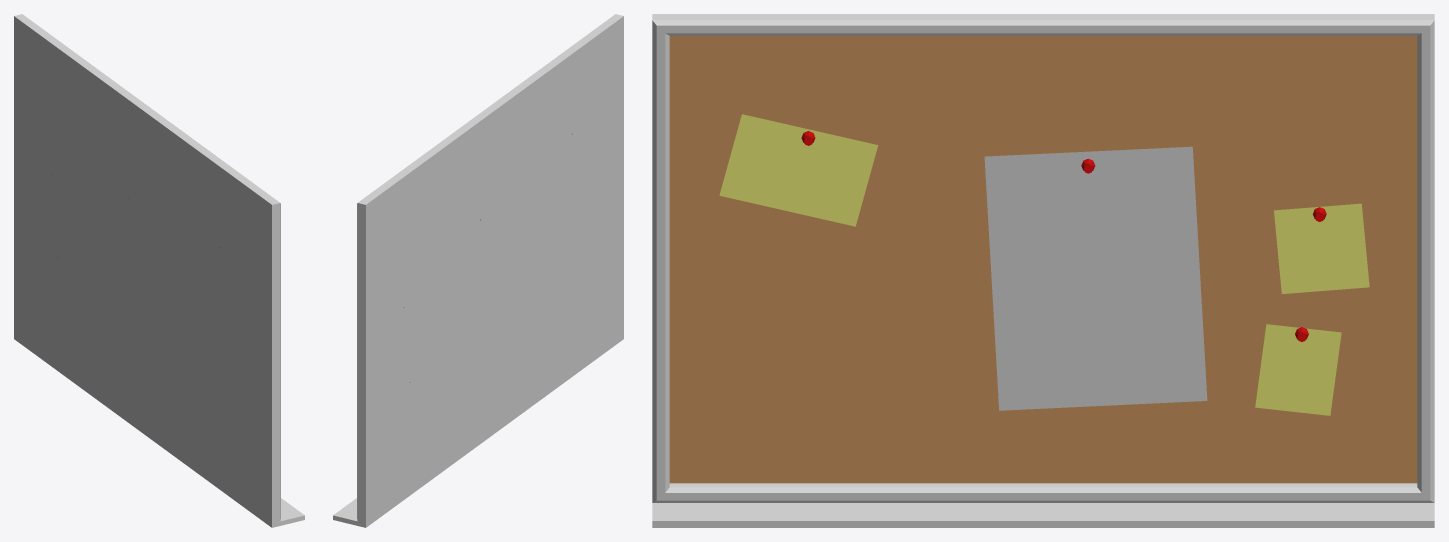
Rendered from message-board.glb.
3 views of the same model, side by side, from view 1: azimuth 30°, elevation 25°; view 2: azimuth 150°, elevation 25°; view 3: azimuth 270°, elevation 25° (orthographic). The views are drawn at different scales.
Parts seen in each view (by area): view 1: Message_Board; view 2: Message_Board; view 3: Message_Board.
Boxes of the visible parts, <box> form: Message_Board: <box>14,14,304,527</box>; Message_Board: <box>333,14,623,527</box>; Message_Board: <box>652,14,1434,527</box>.
Bounding box in the file's own units: 9.12 × 84.47 × 122.
1 material, 1 textured.
